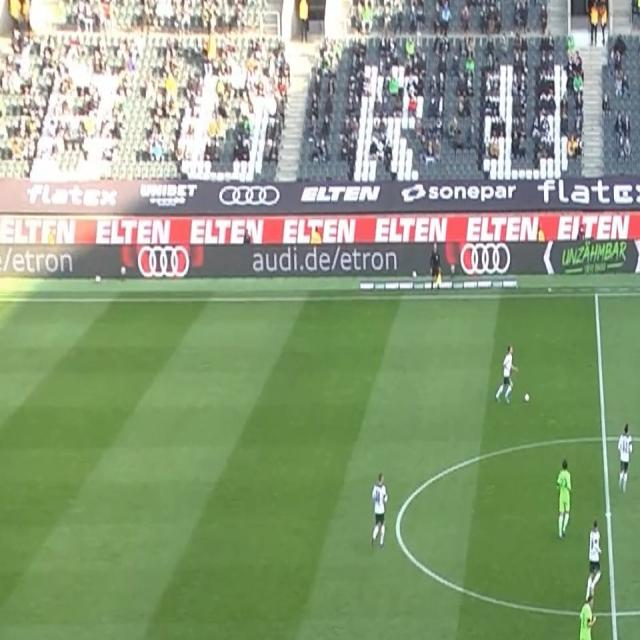ball: (523, 391, 531, 406)
